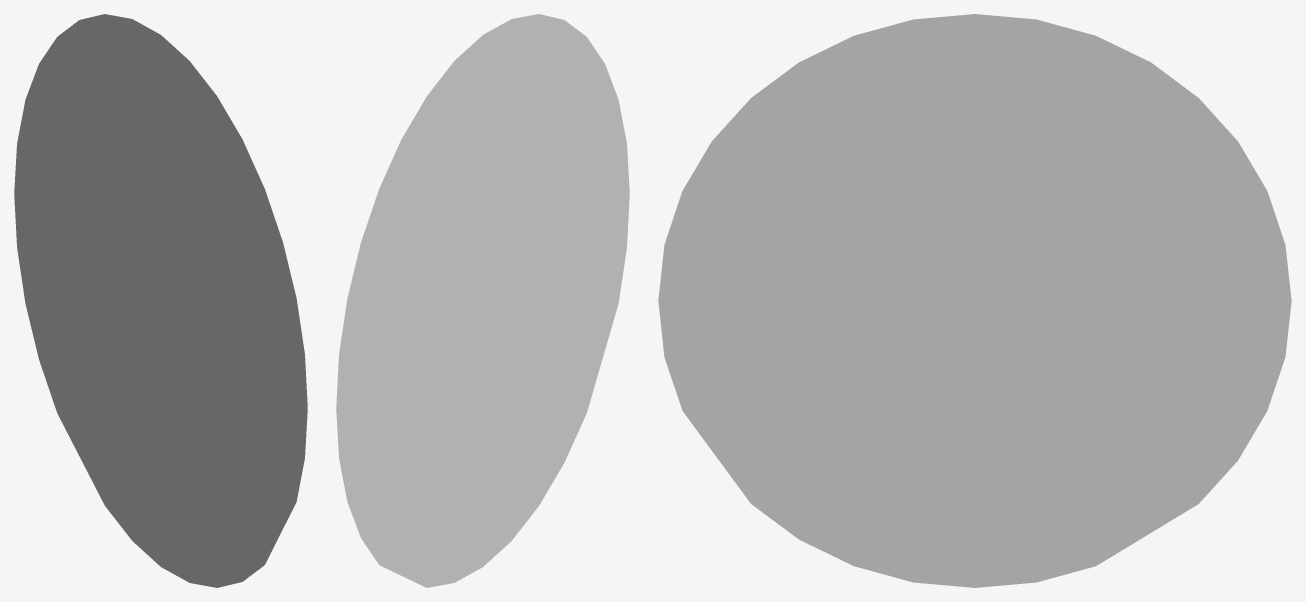
File: bati_rin.obj
3 renders of one model, left to right at view 1: azimuth 30°, elevation 25°; view 2: azimuth 150°, elevation 25°; view 3: azimuth 270°, elevation 25°, orthographic. The views are drawn at different scales.
Visible parts, largest first — view 1: rin2; view 2: rin2; view 3: rin2.
Part boxes in pixels (x1,y1,x2,y2): rin2: (14,14,307,587); rin2: (336,14,629,587); rin2: (658,14,1291,587).
Size of the model in its own units: 0 by 0.513 by 0.513.
